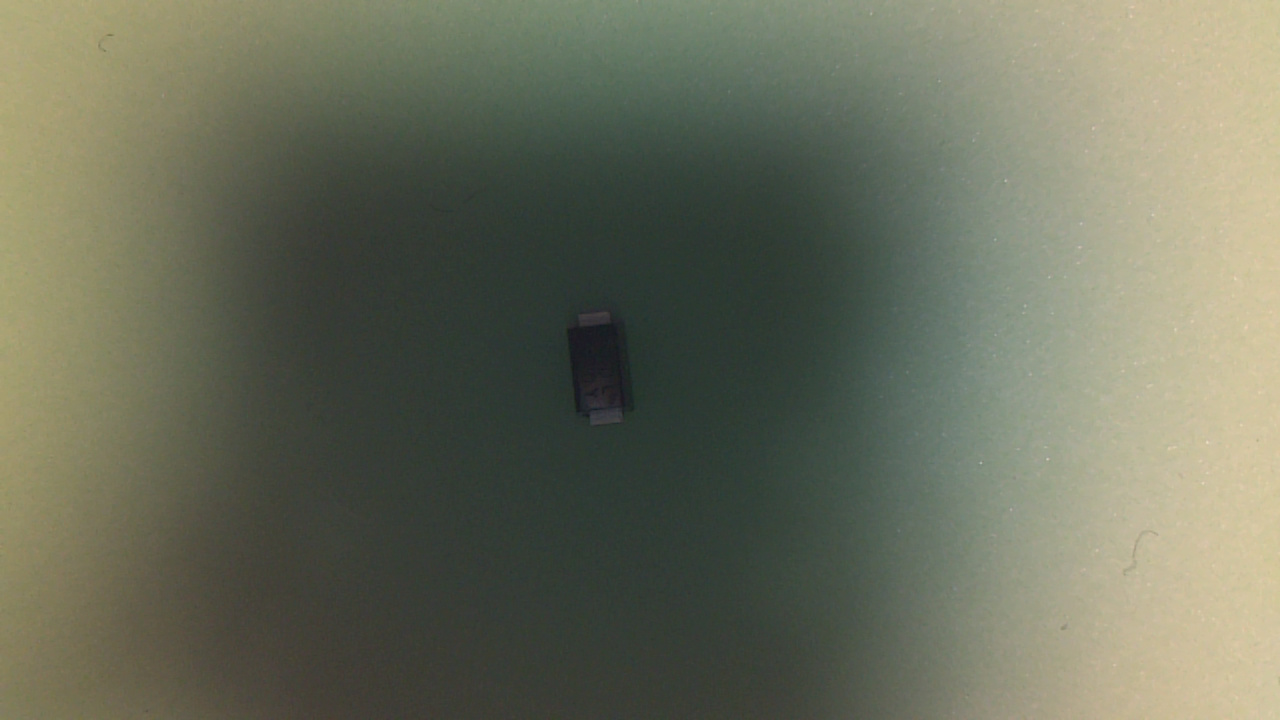Diode: (570, 316, 642, 435)
